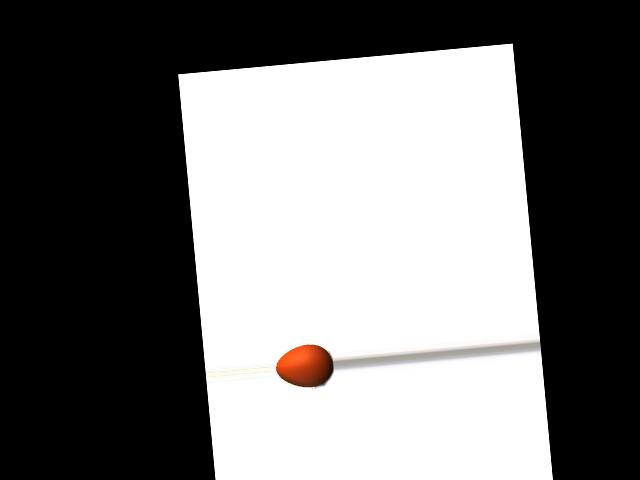egg: (275, 342, 334, 390)
